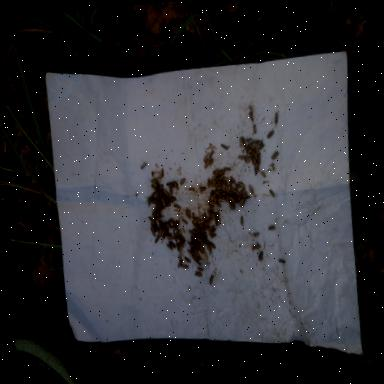pbw: (240, 197, 247, 208), (272, 151, 280, 160), (204, 158, 211, 168), (181, 262, 189, 270), (178, 234, 186, 242), (209, 240, 216, 249), (178, 258, 184, 268), (208, 274, 214, 284), (242, 190, 249, 198), (238, 180, 246, 187), (239, 186, 246, 194), (184, 256, 191, 264), (140, 162, 148, 169), (274, 112, 279, 123), (249, 184, 254, 194), (208, 210, 213, 220), (169, 241, 176, 248), (170, 195, 177, 202), (219, 185, 226, 192), (210, 193, 216, 201), (258, 143, 264, 151), (238, 198, 244, 206), (236, 195, 242, 203), (148, 216, 154, 224), (215, 174, 221, 182), (269, 189, 275, 197), (196, 258, 202, 266), (210, 228, 216, 236), (208, 150, 214, 158), (164, 222, 172, 228), (246, 156, 252, 164), (180, 178, 186, 186), (211, 179, 217, 187), (206, 244, 212, 252), (164, 188, 170, 196), (154, 235, 160, 243), (259, 250, 264, 259), (221, 144, 228, 150), (224, 166, 231, 172), (178, 244, 184, 251), (151, 180, 157, 187), (190, 230, 196, 237), (216, 201, 222, 208), (182, 218, 188, 225), (208, 224, 215, 230), (192, 242, 199, 248), (187, 249, 194, 255), (195, 270, 202, 276), (254, 168, 259, 176), (162, 231, 167, 239), (162, 198, 167, 206), (250, 112, 254, 122), (242, 136, 246, 146), (207, 178, 211, 188), (238, 155, 246, 160), (204, 154, 209, 162), (155, 189, 159, 199), (240, 216, 244, 226), (217, 218, 222, 226), (268, 225, 276, 230), (214, 168, 220, 174), (167, 244, 173, 250), (158, 220, 164, 226), (188, 241, 194, 247), (158, 184, 164, 190), (279, 258, 285, 264), (252, 124, 256, 133), (250, 143, 256, 149), (198, 266, 204, 272), (246, 136, 252, 142), (219, 174, 225, 180), (178, 236, 184, 242), (260, 172, 266, 178), (209, 159, 215, 165), (178, 252, 182, 261), (192, 220, 198, 226), (167, 218, 174, 223), (195, 249, 200, 256), (239, 138, 243, 146), (230, 180, 234, 188), (166, 196, 170, 204), (254, 245, 262, 249), (254, 151, 258, 159), (222, 176, 230, 180), (211, 212, 215, 220), (215, 182, 219, 190), (175, 182, 179, 190), (148, 199, 152, 207), (158, 190, 162, 198), (196, 222, 200, 230), (151, 228, 155, 236), (168, 184, 172, 192), (254, 162, 258, 170), (174, 233, 178, 241), (257, 158, 261, 166), (256, 140, 262, 145), (192, 229, 198, 234), (173, 224, 178, 230), (211, 232, 217, 237), (200, 224, 205, 230), (146, 196, 152, 201), (231, 176, 236, 182), (160, 227, 163, 237), (212, 175, 218, 180), (201, 186, 207, 191), (158, 172, 163, 178), (230, 195, 234, 202), (192, 213, 196, 220), (204, 236, 208, 243), (167, 236, 174, 240), (152, 199, 159, 203), (257, 153, 261, 160), (176, 219, 180, 226), (188, 187, 195, 191), (253, 232, 260, 236), (218, 180, 221, 189), (272, 163, 275, 172), (247, 149, 252, 154), (152, 185, 157, 190), (157, 211, 162, 216), (155, 203, 160, 208), (222, 191, 227, 196), (214, 190, 219, 195), (196, 228, 202, 232), (166, 233, 172, 237), (166, 228, 170, 234), (176, 205, 182, 209), (192, 234, 196, 240), (228, 185, 231, 193), (230, 204, 234, 210), (236, 187, 239, 194), (176, 243, 179, 250), (256, 147, 259, 154), (153, 213, 156, 220), (169, 191, 172, 198), (202, 217, 209, 220), (176, 230, 180, 235), (231, 188, 236, 192), (196, 217, 201, 221), (158, 207, 162, 212), (218, 195, 222, 200), (226, 184, 228, 194), (162, 170, 165, 176), (252, 139, 258, 142), (198, 238, 202, 242), (200, 222, 204, 226), (188, 212, 190, 219), (153, 179, 156, 183), (246, 196, 252, 198)
